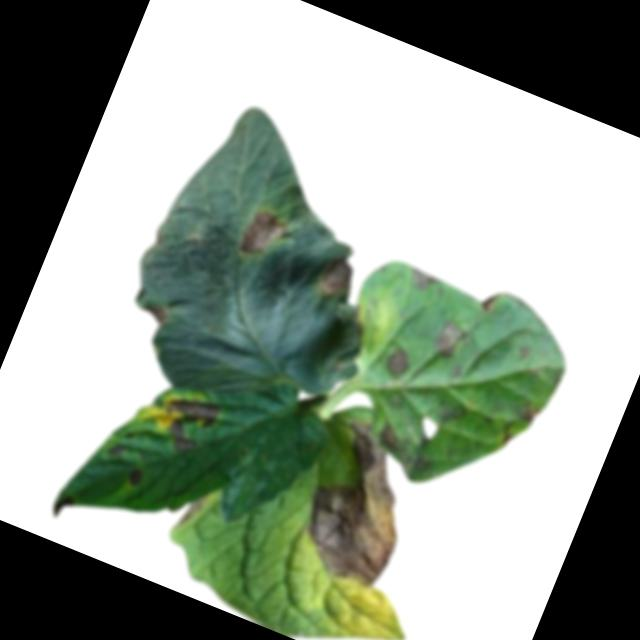Early_blight: (288, 416, 434, 590), (154, 387, 222, 461), (233, 202, 292, 267), (310, 249, 360, 304), (427, 314, 471, 361), (177, 487, 209, 533), (139, 295, 177, 327), (383, 345, 412, 378), (406, 263, 438, 292), (377, 421, 408, 450), (49, 489, 76, 522), (516, 399, 543, 426), (123, 463, 146, 487), (477, 289, 498, 312), (107, 439, 126, 457)
